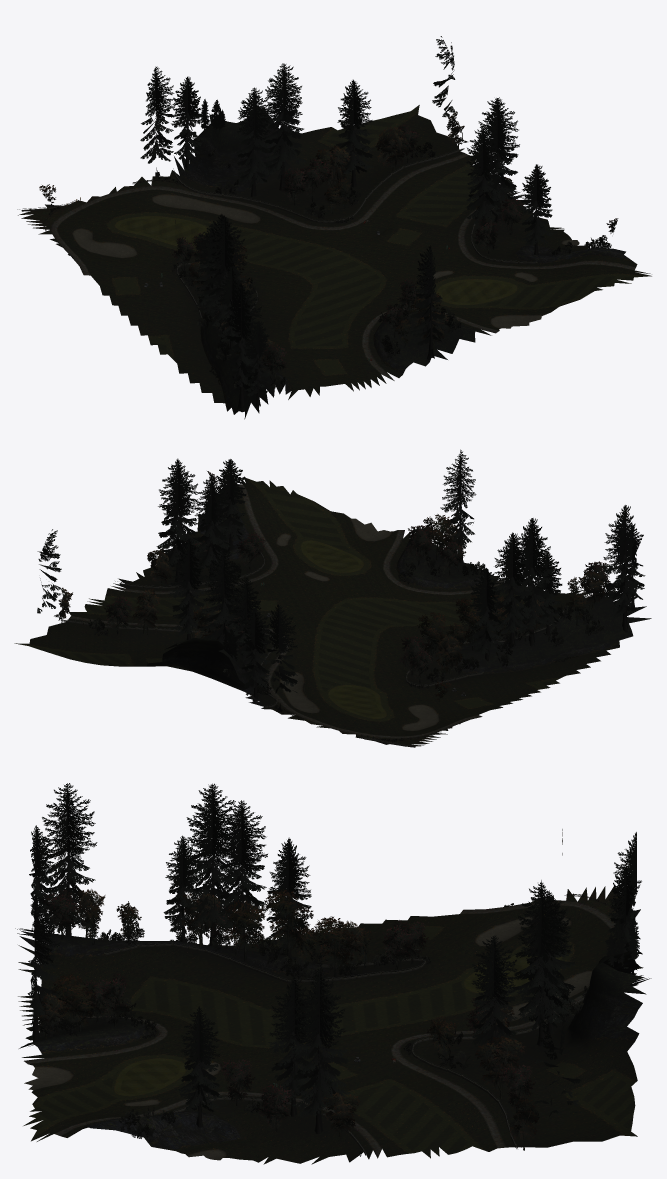
File: cell_8_-17.gltf
3 renders of one model, top to bottom at view 1: azimuth 30°, elevation 25°; view 2: azimuth 150°, elevation 25°; view 3: azimuth 270°, elevation 25°, orthographic. The views are drawn at different scales.
Parts seen in each view (by area): view 1: cell_8_-17; view 2: cell_8_-17; view 3: cell_8_-17.
Part boxes in pixels (x1,y1,x2,y2): cell_8_-17: [17, 36, 651, 419]; cell_8_-17: [14, 449, 651, 747]; cell_8_-17: [15, 783, 651, 1164].
Bounding box in the file's own units: 272 × 106 × 272.
40 materials, 40 textured.
